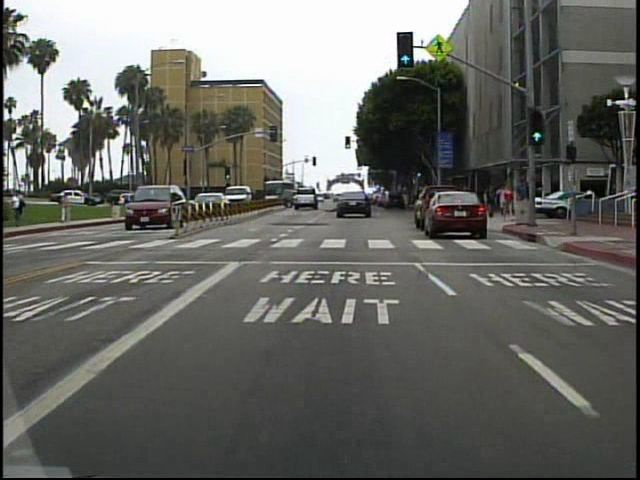person: (13, 190, 34, 231), (516, 179, 532, 220), (62, 189, 79, 226), (501, 184, 516, 223)
